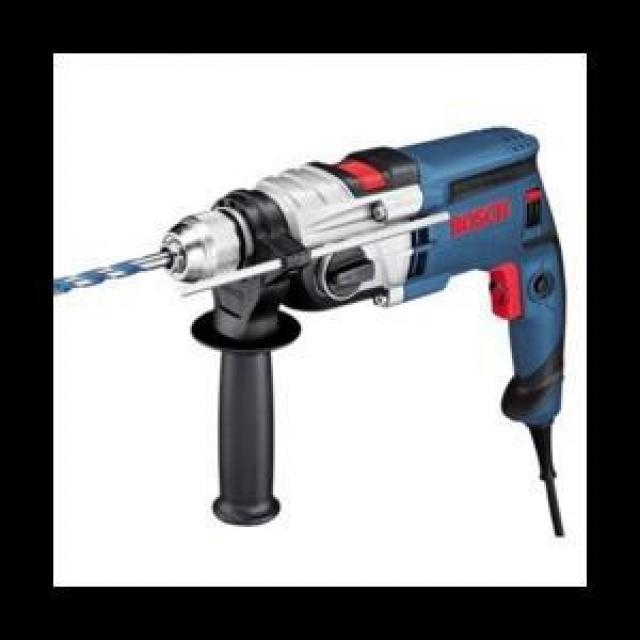drill: (54, 126, 568, 527)
